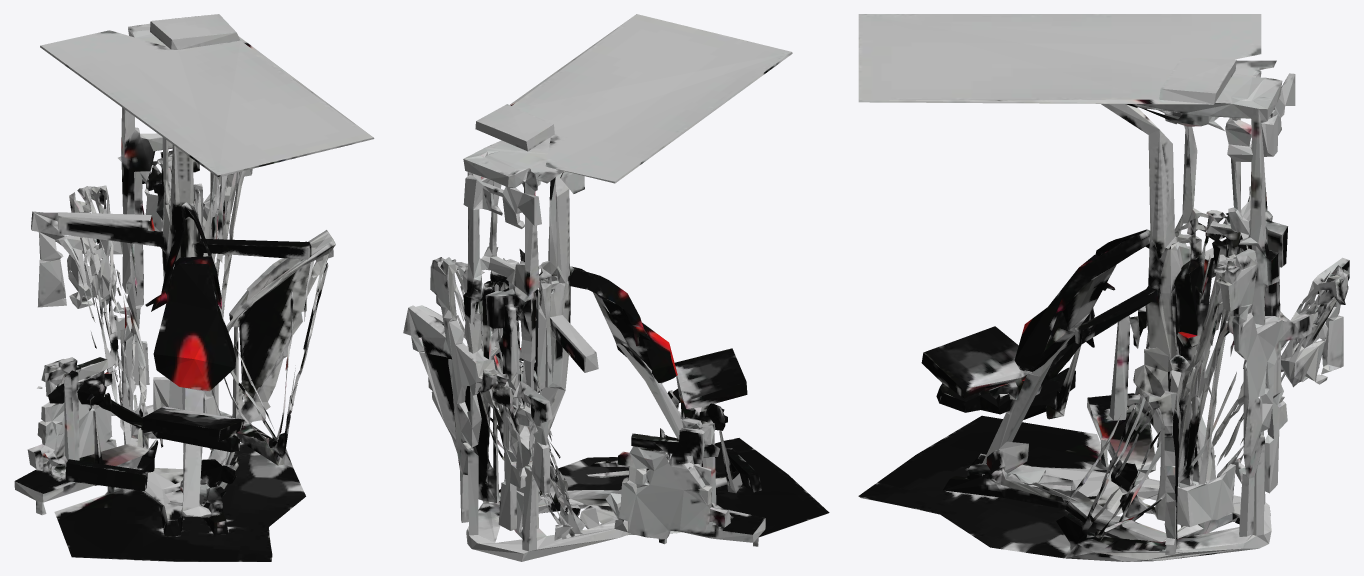
Rendered from k1-bowflex-xtreme-2se-phone.glb.
3 views of the same model, side by side, from view 1: azimuth 30°, elevation 25°; view 2: azimuth 150°, elevation 25°; view 3: azimuth 270°, elevation 25° (orthographic). The views are drawn at different scales.
Parts seen in each view (by area): view 1: demo_textured.obj; view 2: demo_textured.obj; view 3: demo_textured.obj.
Boxes of the visible parts, box(x1,y1,x2,y2) form: demo_textured.obj: box(14, 14, 374, 561); demo_textured.obj: box(403, 14, 829, 561); demo_textured.obj: box(858, 14, 1349, 561).
Bounding box in the file's own units: 1.72 × 1.96 × 1.88.
1 material, 1 textured.
